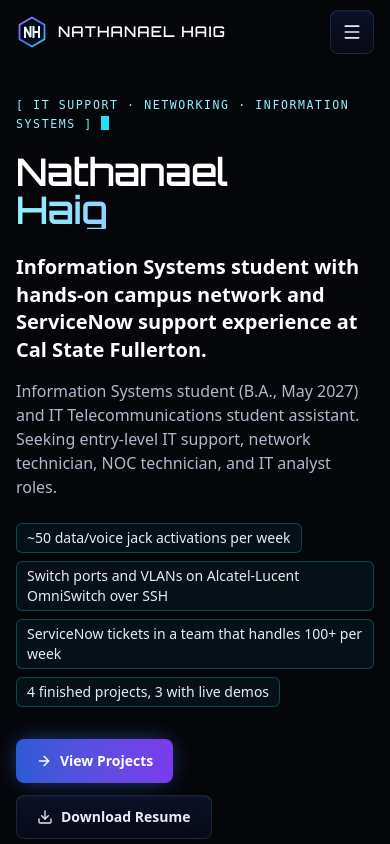
Test case: mobile menu › offers the resume download next to the section links whenever a resume is published
What coordinates should you click on to do the following:
click the button named "Open menu"
I would click on:
 (352, 32)
Its box is [330,10,374,54].
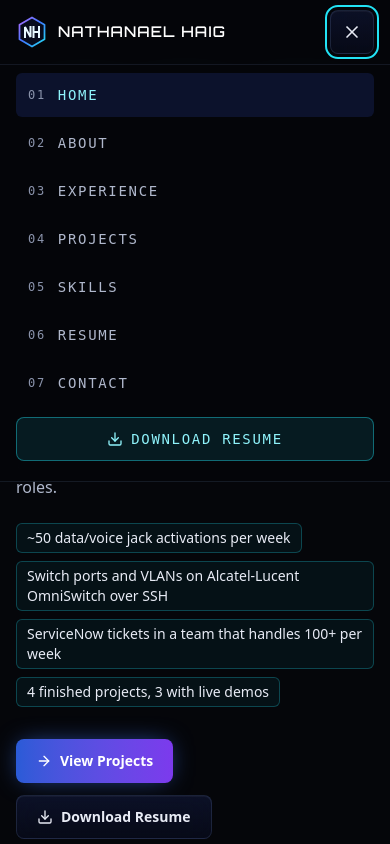
Check: the number of links "Download resume" is 1, box [16,417,374,461]
